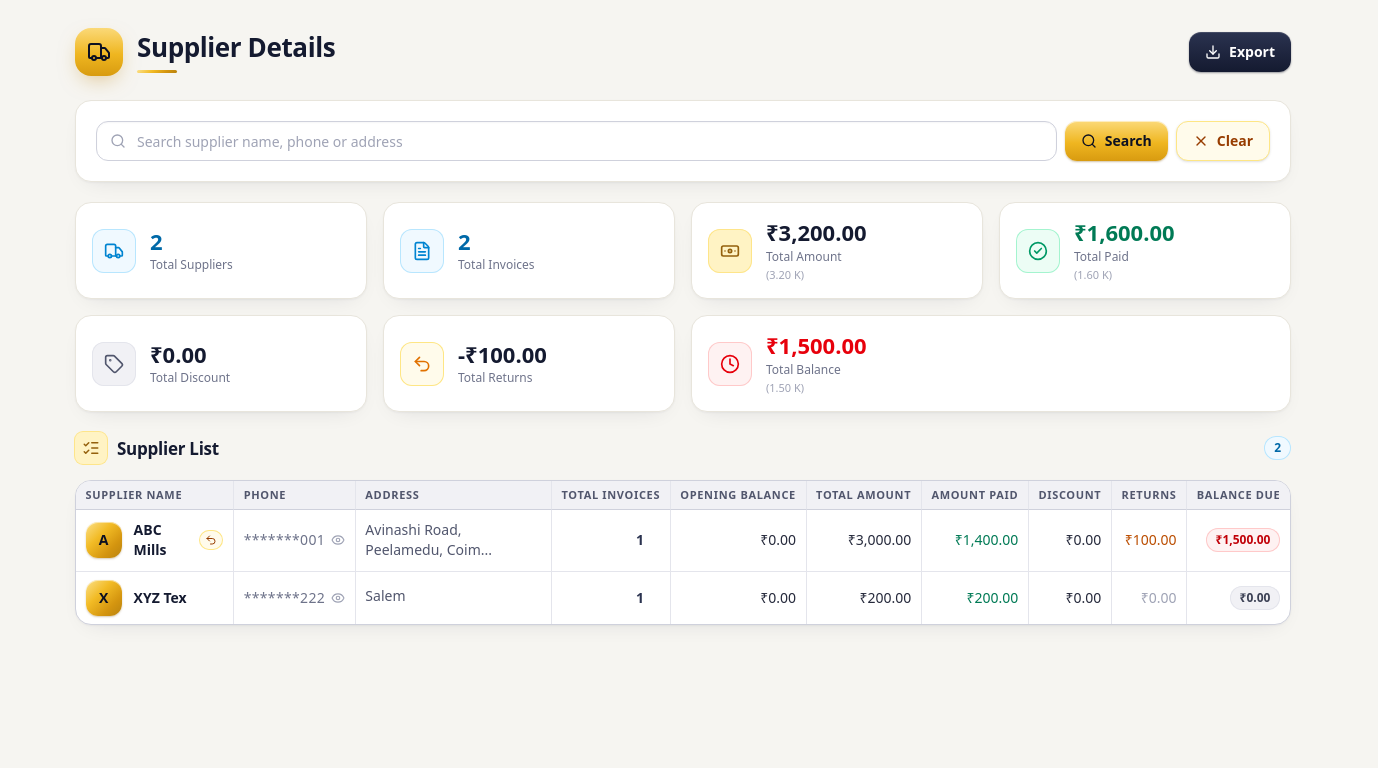
Supplier Details page (shared party layout) › Search / Clear filter the list; a search with no match says so
This screenshot has width=1378, height=768.
Check: the heading "Supplier List" is shown, box [75, 432, 219, 464]
Type "salem" into the search field named "Search suppliers" at (576, 141), box [96, 121, 1057, 161]
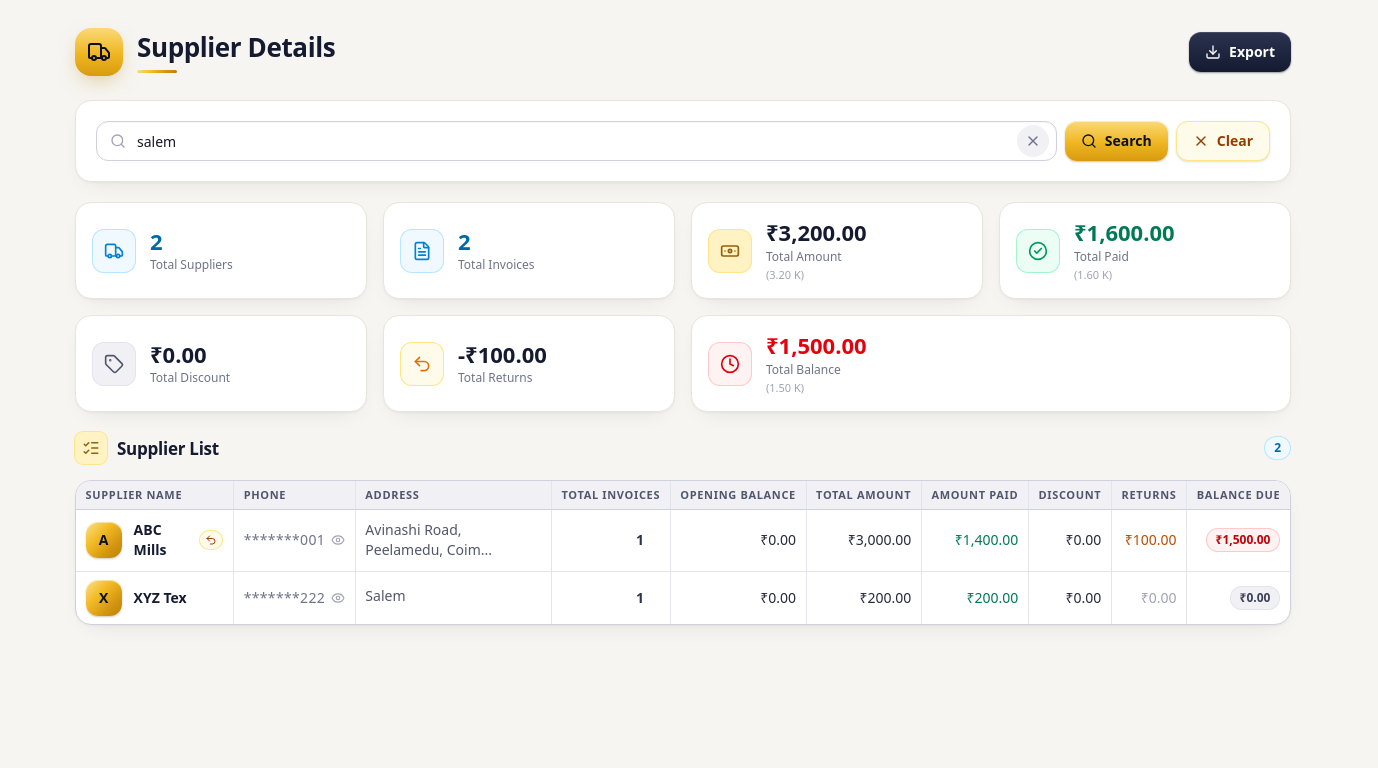
Click the button "Search" at (1116, 141), box [1065, 121, 1168, 161]
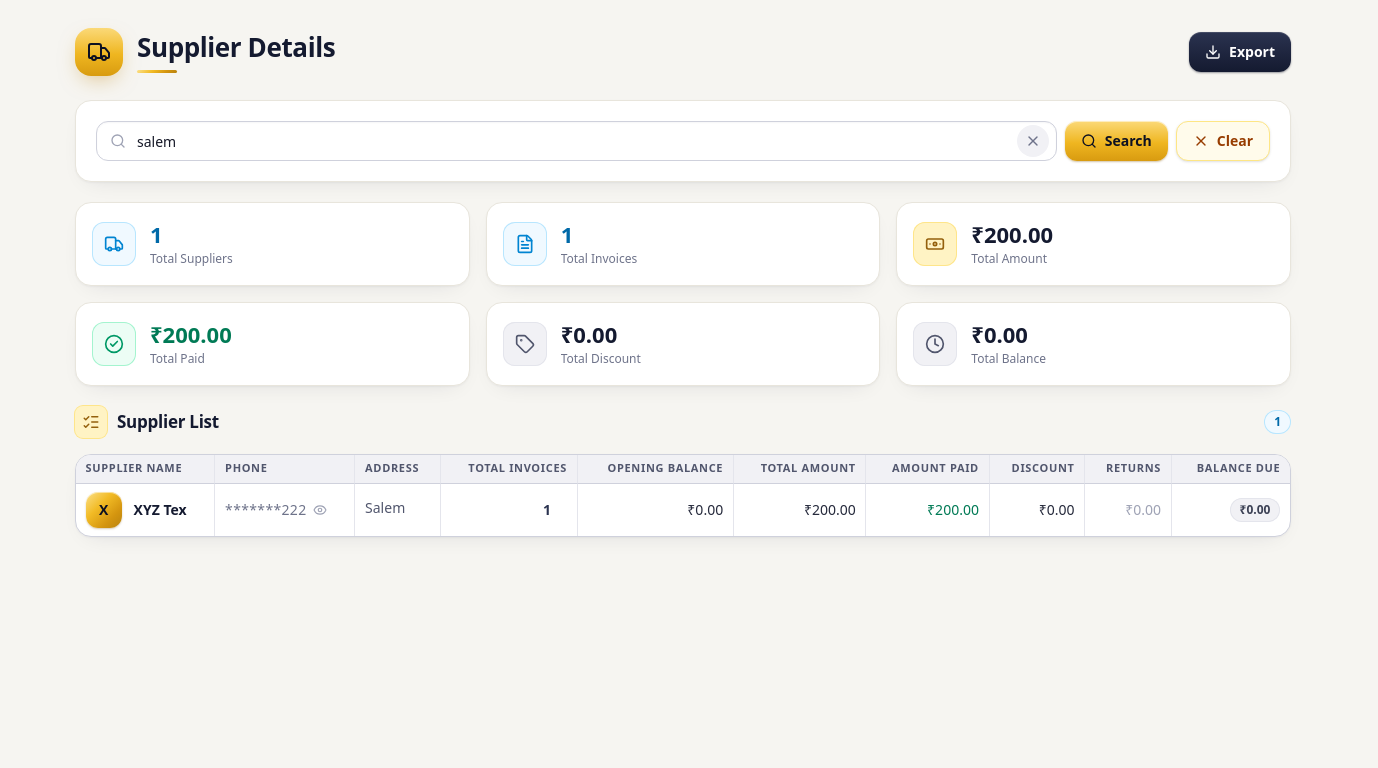
Check: the text "XYZ Tex" is shown, box [134, 500, 187, 520]
Check: the text "ABC Mills" is gone
Check: the 1st text "1" is shown, box [150, 219, 163, 249]
Click the button "Clear" at (1223, 141), box [1176, 121, 1270, 161]
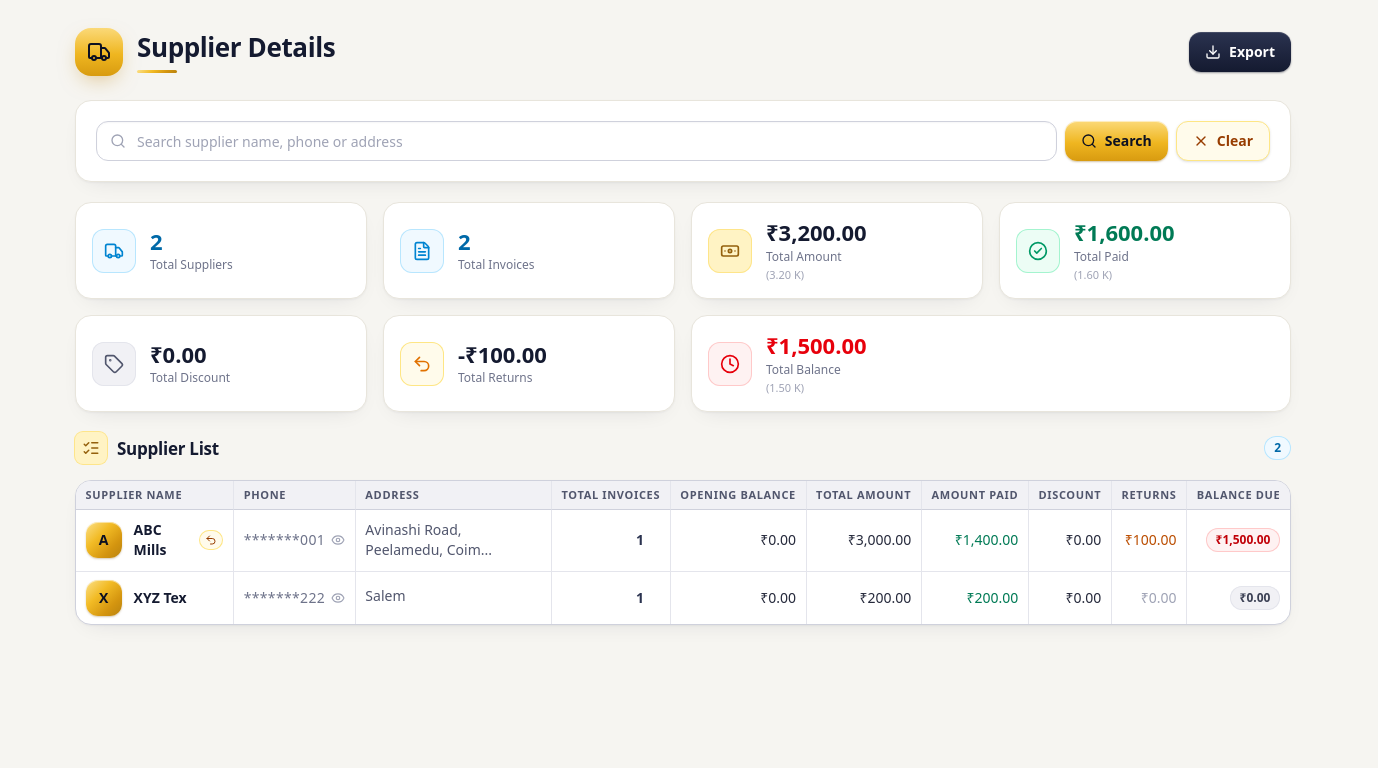
Check: the text "ABC Mills" is shown, box [134, 520, 167, 559]
Type "zzz" into the search field named "Search suppliers" at (576, 141), box [96, 121, 1057, 161]
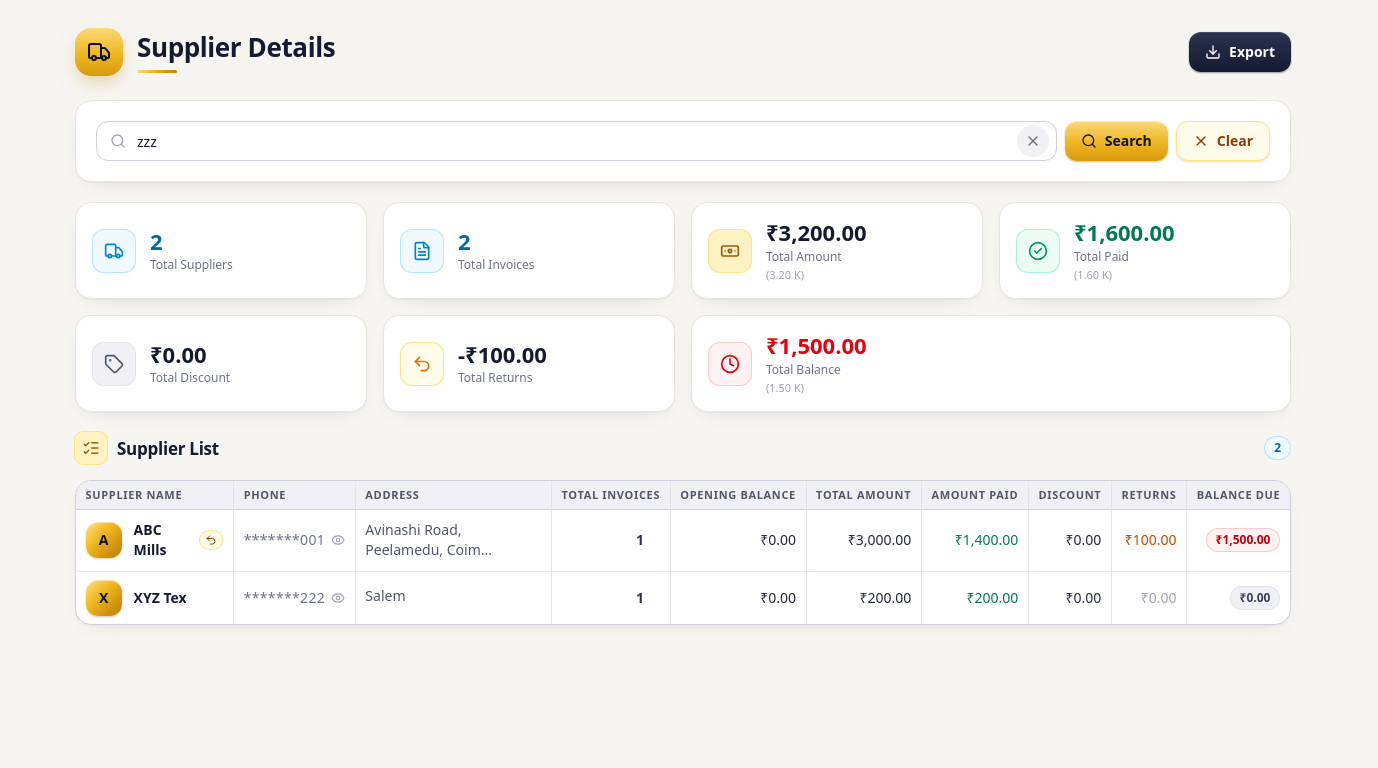
Submit the form, box [75, 100, 1291, 182]
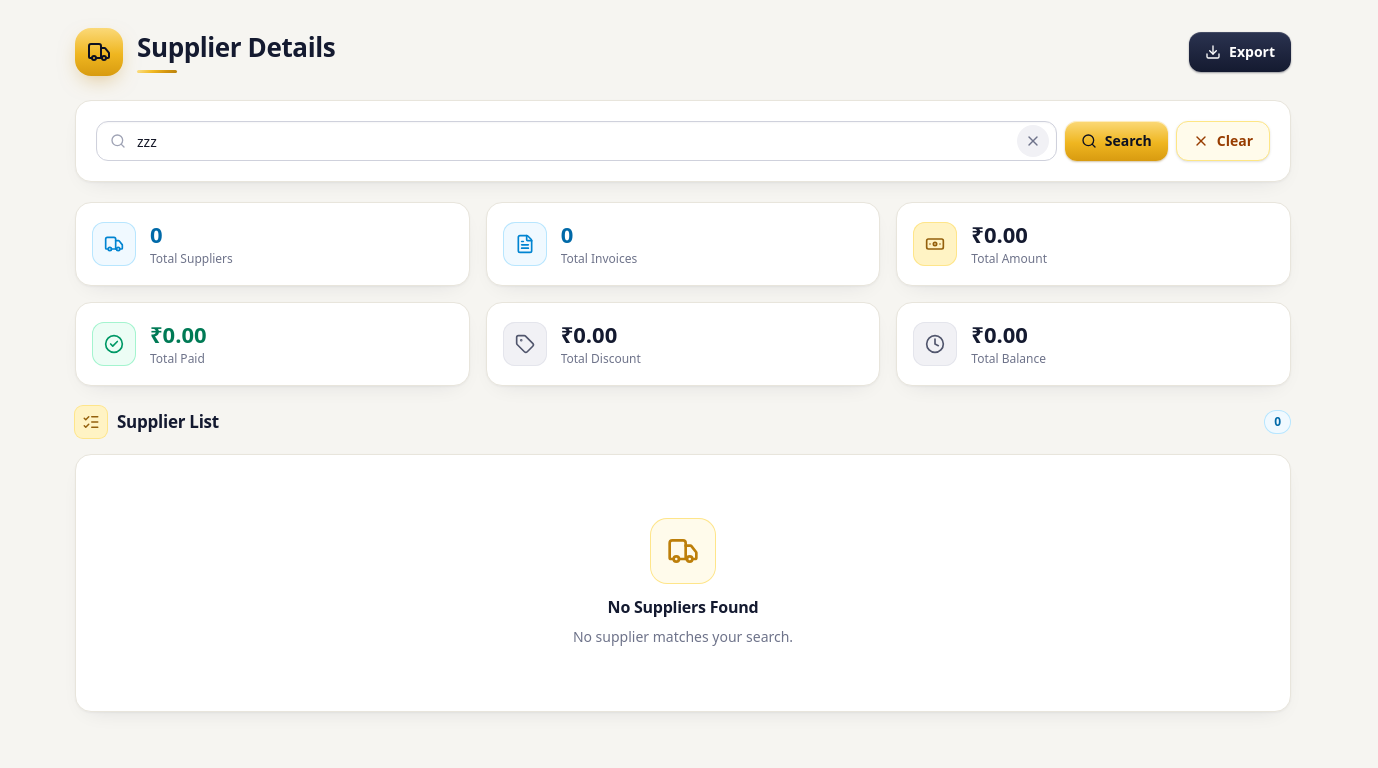
Check: the heading "No Suppliers Found" is shown, box [608, 595, 758, 619]
Check: the text "No supplier matches your search." is shown, box [573, 627, 793, 647]
